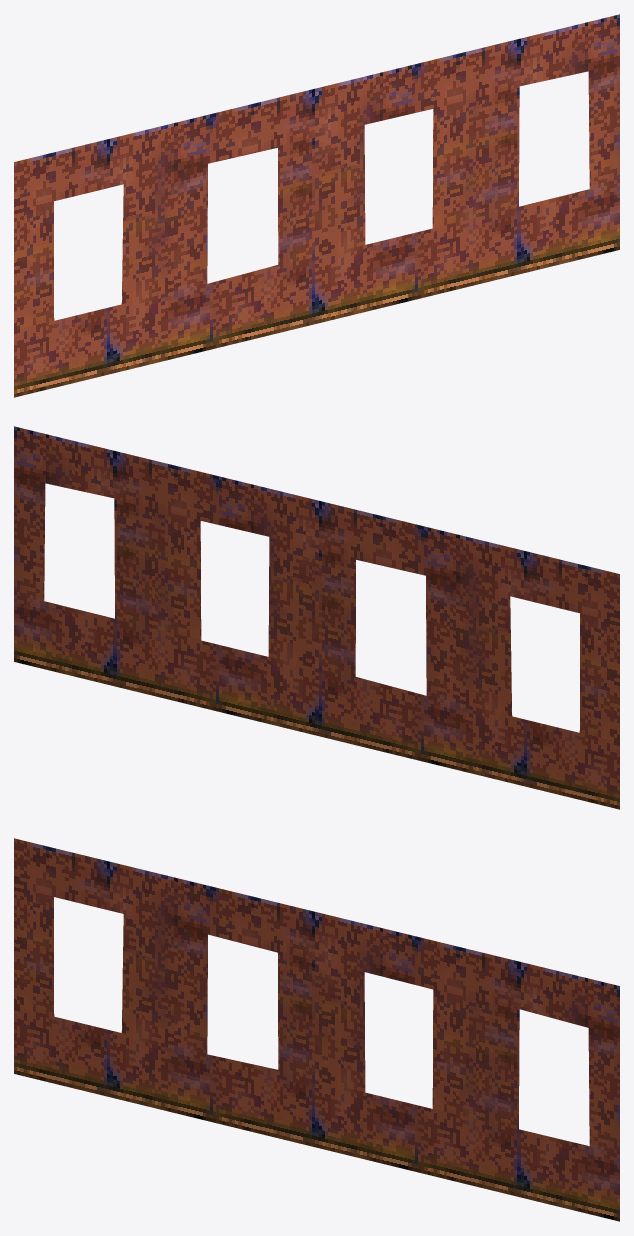
File: W_AI1_ffff [Geschmacklos]_1705.glb
The picture shows the model from 3 angles, top to bottom: view 1: azimuth 30°, elevation 25°; view 2: azimuth 150°, elevation 25°; view 3: azimuth 330°, elevation 25°; orthographic projection.
Visible parts, largest first — view 1: innenpolySurface601Shape; view 2: innenpolySurface601Shape; view 3: innenpolySurface601Shape.
Part boxes in pixels (x1,y1,x2,y2): innenpolySurface601Shape: (14,14,619,397); innenpolySurface601Shape: (14,426,619,809); innenpolySurface601Shape: (14,838,619,1221).
Size of the model in its own units: 0.9385 by 0.3486 by 1.31e-07.
Materials: 1 (1 with a texture image).
